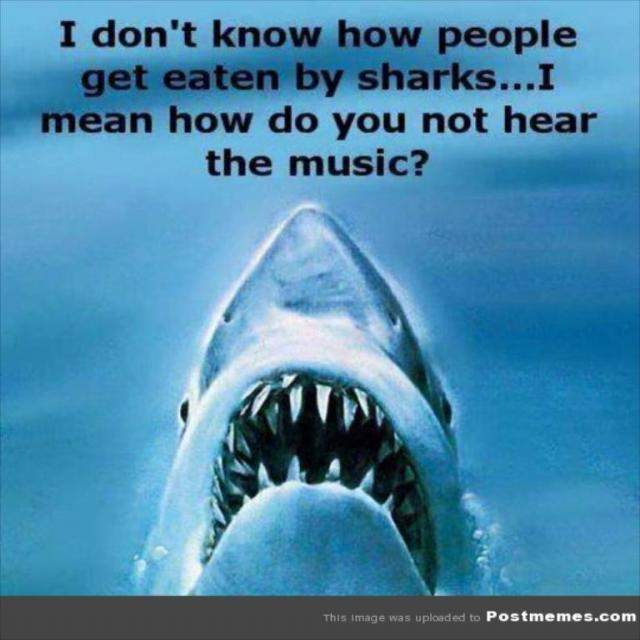Shark: (140, 196, 488, 594)
